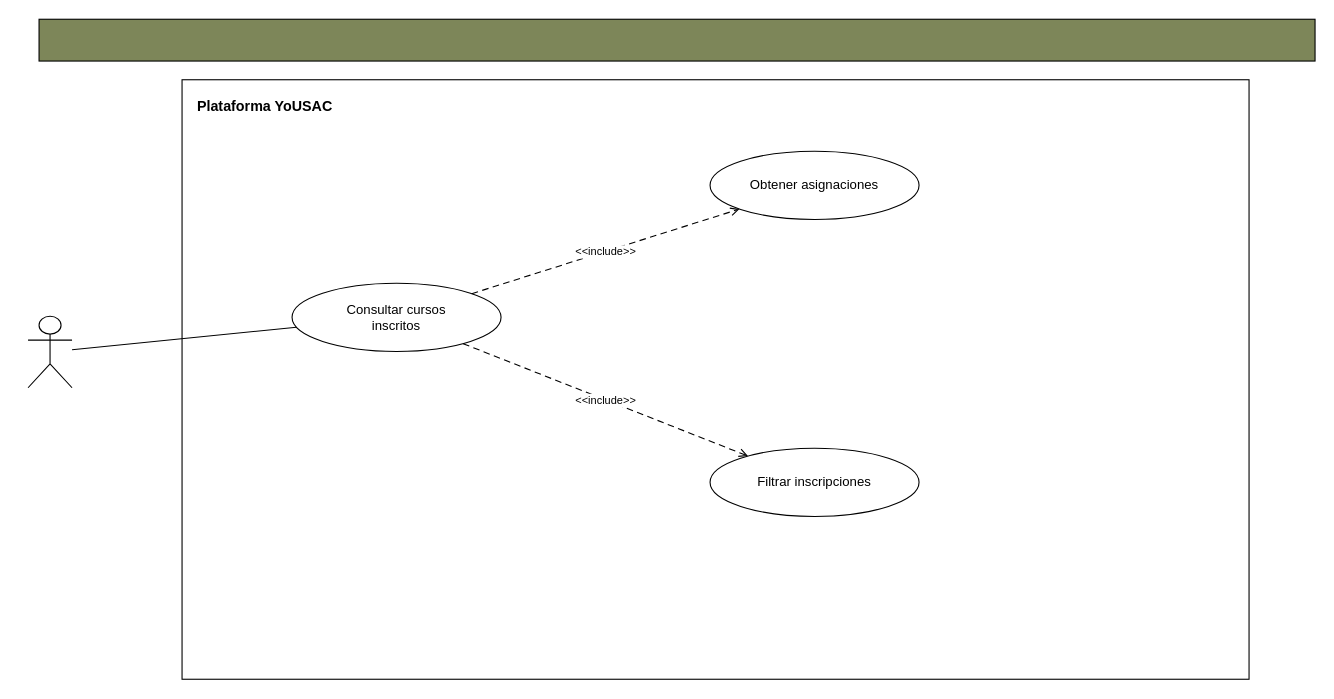
Some shapes in this 1334 by 699 pixel diagram are drawn without their labels. Each missing label, with the centre of its shape:
Estudiante: the point at 49,351
Plataforma YoUSAC — CU-AP-01 — Consultar cursos inscritos: the point at 676,39
